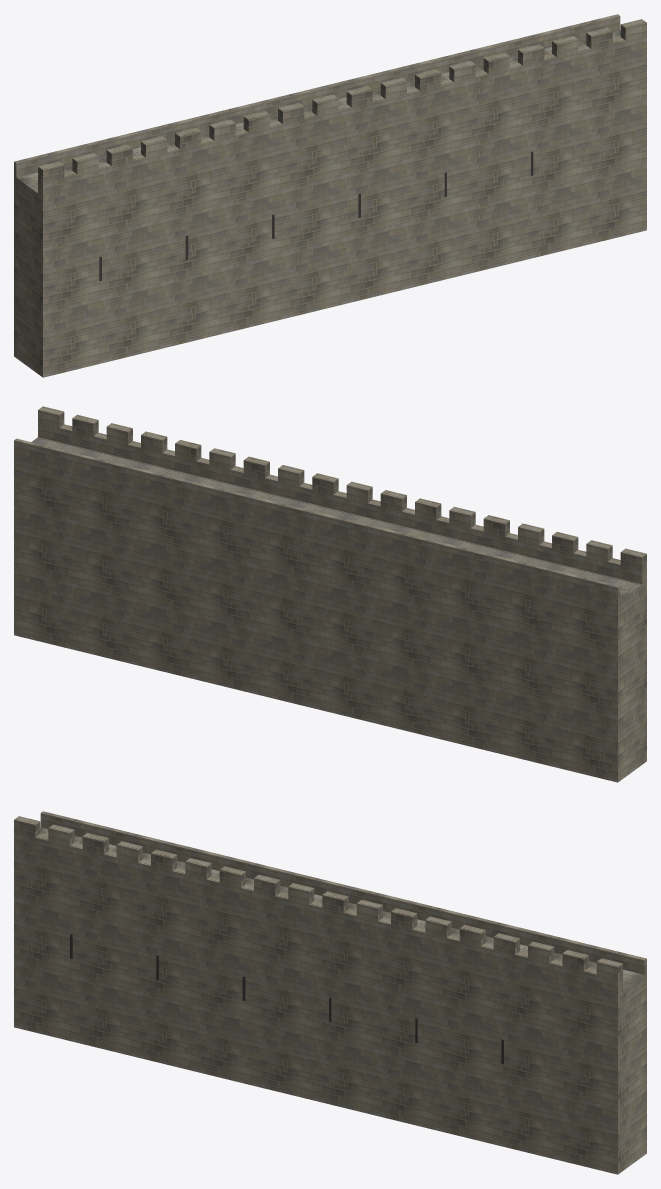
The model's file is fort-wall-42.reveal-v1.lod1.glb.
The picture shows the model from 3 angles, top to bottom: view 1: azimuth 30°, elevation 25°; view 2: azimuth 150°, elevation 25°; view 3: azimuth 330°, elevation 25°; orthographic projection.
Parts seen in each view (by area): view 1: fort-wall-42; view 2: fort-wall-42; view 3: fort-wall-42.
Boxes of the visible parts, <box> form: fort-wall-42: <box>14,14,646,377</box>; fort-wall-42: <box>14,406,646,782</box>; fort-wall-42: <box>14,811,646,1174</box>.
Bounding box in the file's own units: 42 × 13.8 × 3.52.
Materials: 3 (2 with a texture image).
